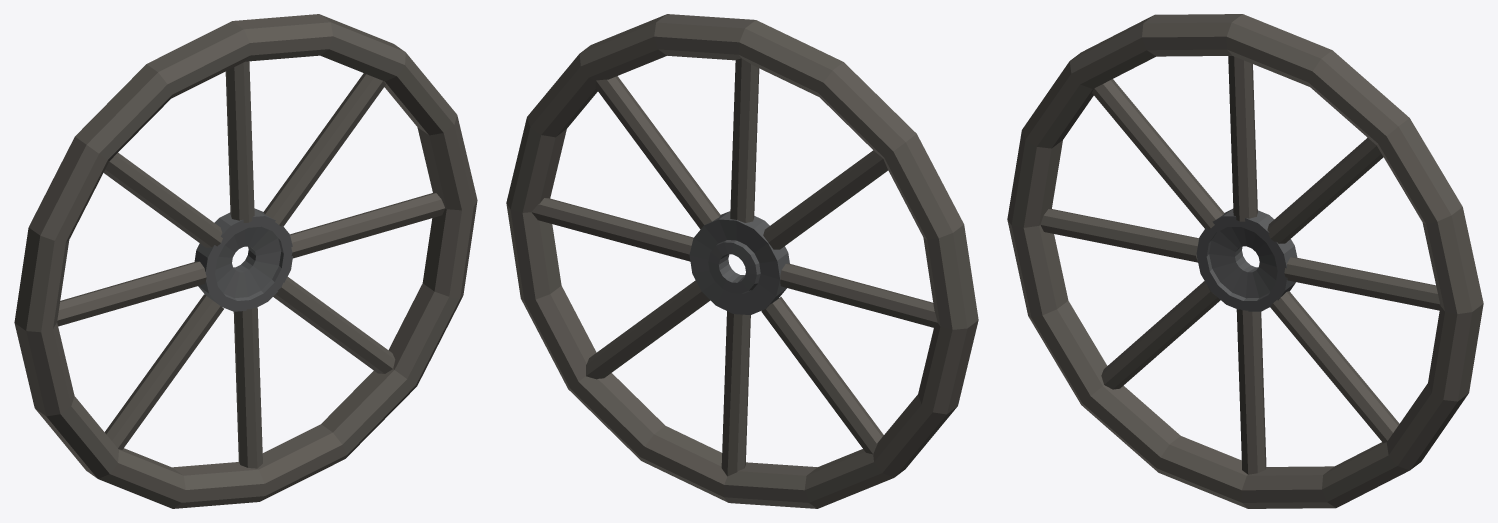
Rendered from Wheel_2.fbx.
The picture shows the model from 3 angles, left to right: view 1: azimuth 30°, elevation 25°; view 2: azimuth 150°, elevation 25°; view 3: azimuth 330°, elevation 25°; orthographic projection.
Parts seen in each view (by area): view 1: Wheel_2; view 2: Wheel_2; view 3: Wheel_2.
Boxes of the visible parts, left/top/right/bottom form: Wheel_2: left=14, top=14, right=477, bottom=508; Wheel_2: left=506, top=14, right=978, bottom=508; Wheel_2: left=1007, top=14, right=1483, bottom=508.
Bounding box in the file's own units: 127 × 127 × 12.58.
